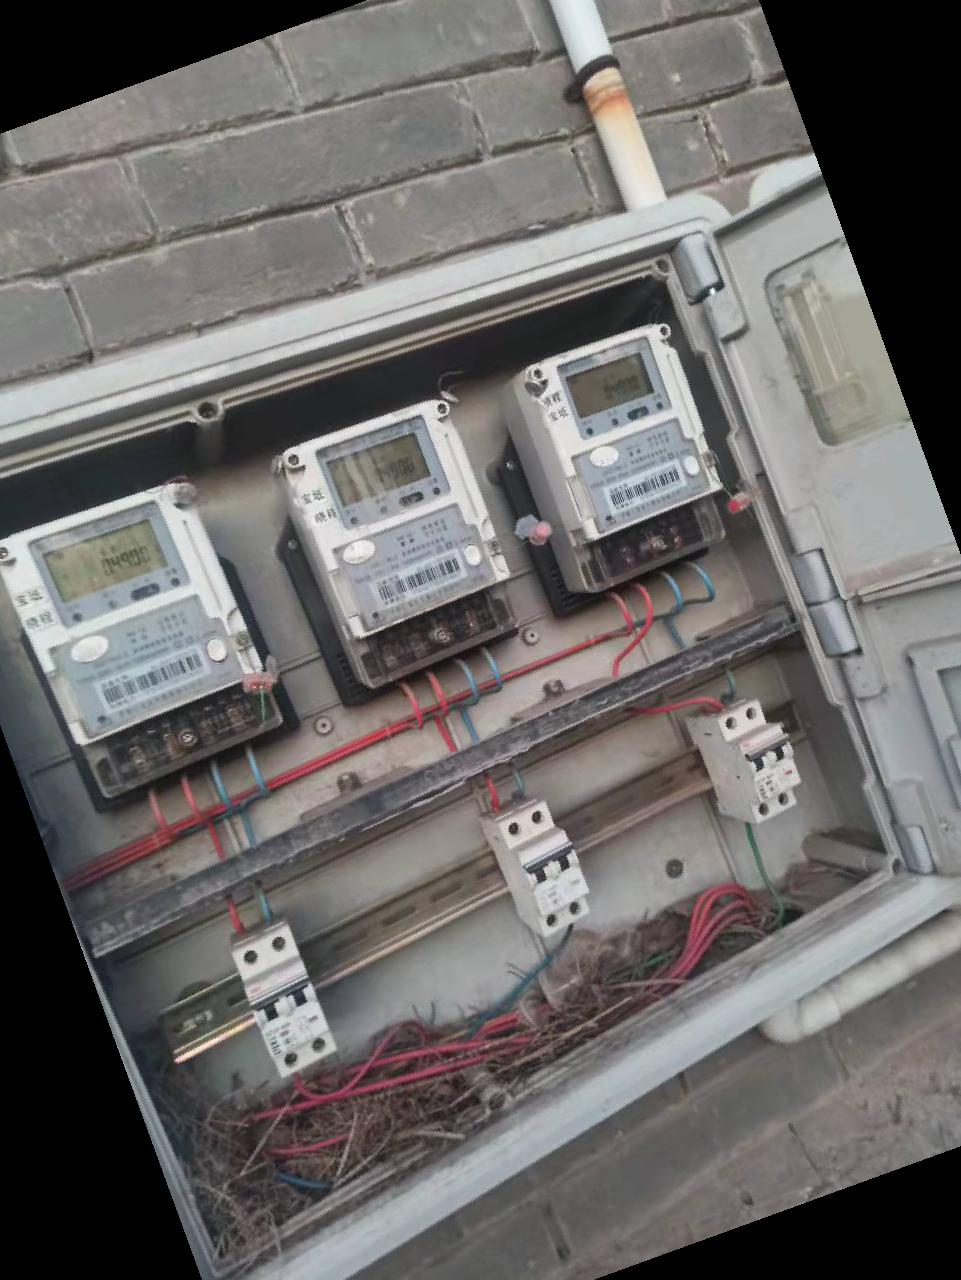digital: (1, 481, 269, 748), (281, 400, 506, 637), (515, 324, 717, 545)
